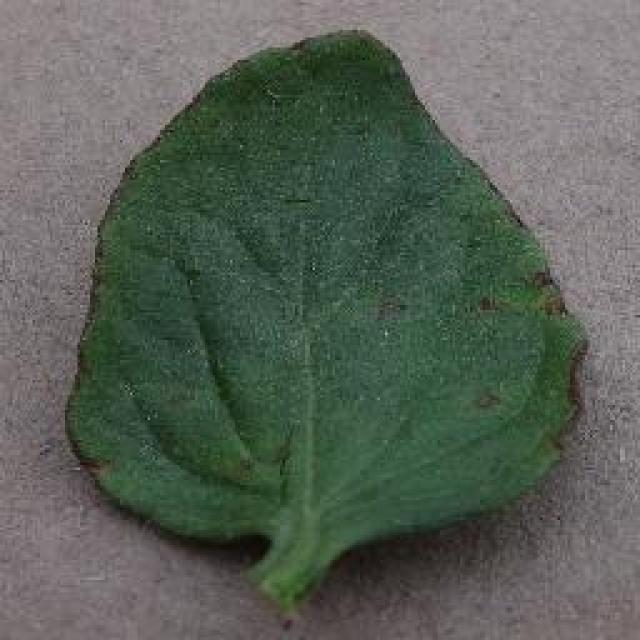Tomato___Bacterial_spot: (64, 29, 599, 615)
